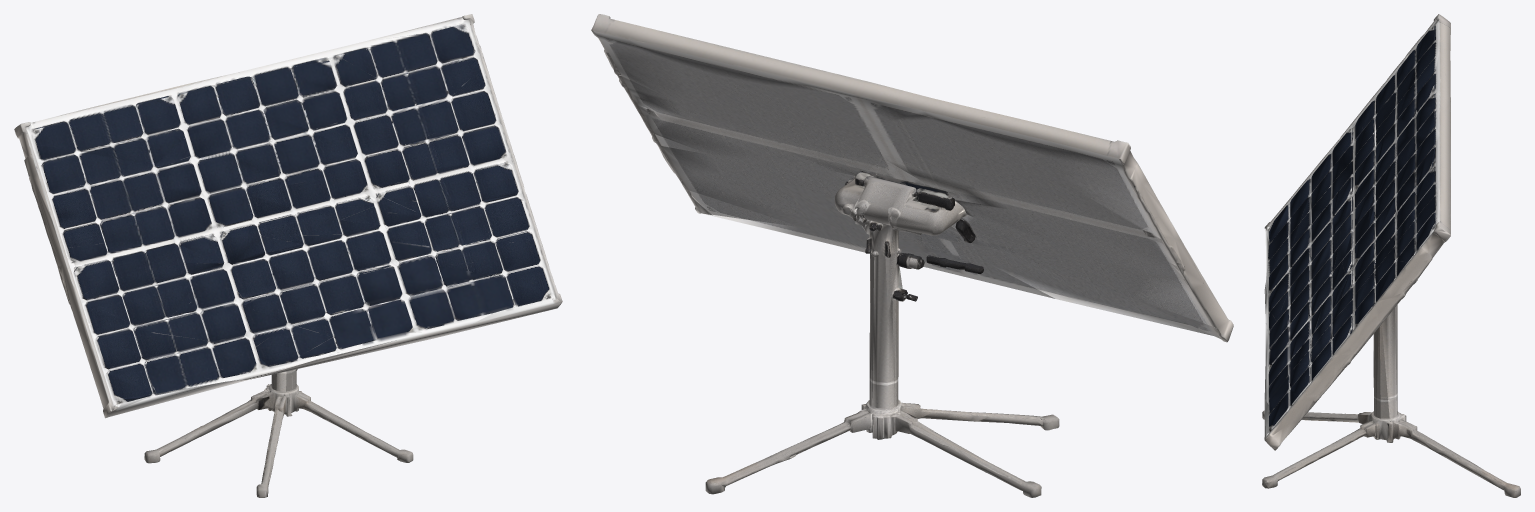
The model's file is solar.glb.
3 renders of one model, left to right at view 1: azimuth 30°, elevation 25°; view 2: azimuth 150°, elevation 25°; view 3: azimuth 270°, elevation 25°, orthographic. The views are drawn at different scales.
Visible parts, largest first — view 1: mesh_node; view 2: mesh_node; view 3: mesh_node.
Boxes of the visible parts, bbox=[...] form: mesh_node: bbox=[14, 14, 562, 497]; mesh_node: bbox=[591, 14, 1233, 497]; mesh_node: bbox=[1262, 14, 1520, 497].
Size of the model in its own units: 1.65 by 1.2 by 0.8437.
Materials: 1 (1 with a texture image).
